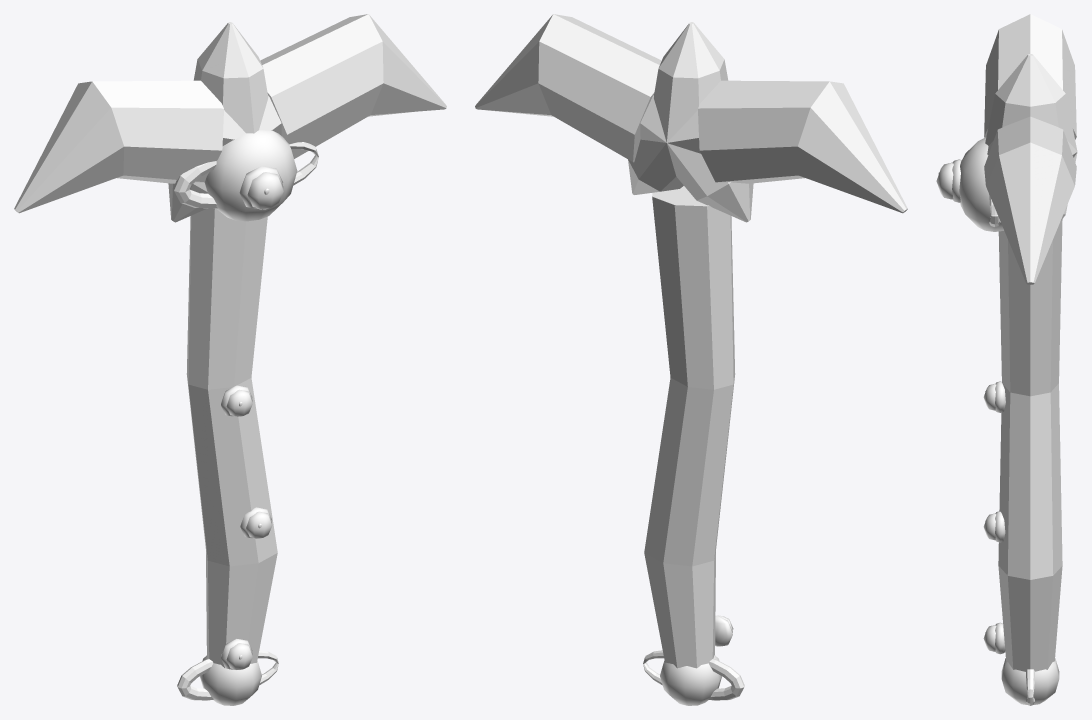
Rendered from pickaxe.obj.
3 views of the same model, side by side, from view 1: azimuth 30°, elevation 25°; view 2: azimuth 150°, elevation 25°; view 3: azimuth 270°, elevation 25° (orthographic). The views are drawn at different scales.
Parts seen in each view (by area): view 1: head, handle, ornaments; view 2: head, handle; view 3: handle, head, ornaments.
Boxes of the visible parts, x1,y1,x2,y2 form: head: (14, 14, 446, 222); handle: (177, 208, 278, 705); ornaments: (173, 130, 318, 221); head: (475, 14, 907, 222); handle: (643, 186, 744, 705); handle: (983, 219, 1062, 705); head: (984, 14, 1077, 284); ornaments: (936, 137, 1003, 231).
Bounding box in the file's own units: 0.5533 × 0.8354 × 0.1649.
